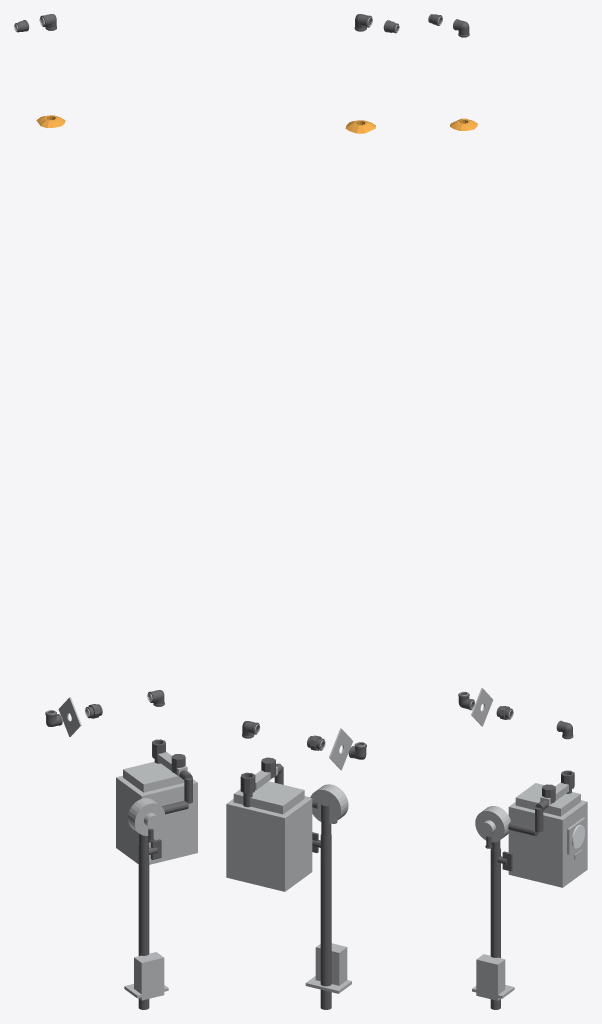
Rendered from pipes_gas__gas-natural.glb.
The picture shows the model from 3 angles, left to right: view 1: azimuth 30°, elevation 25°; view 2: azimuth 150°, elevation 25°; view 3: azimuth 330°, elevation 25°; orthographic projection. The views are drawn at different scales.
Visible parts, largest first — view 1: fix_gas_meter, fix_gas_meter_union; view 2: fix_gas_meter, fix_gas_meter_union; view 3: fix_gas_meter, fix_gas_meter_union.
Boxes of the visible parts, x1,y1,x2,y2 form: fix_gas_meter: [116, 739, 197, 1009]; fix_gas_meter_union: [58, 697, 102, 736]; fix_gas_meter: [226, 757, 351, 1009]; fix_gas_meter_union: [307, 728, 352, 770]; fix_gas_meter: [472, 770, 587, 1009]; fix_gas_meter_union: [471, 688, 513, 726].
Size of the model in its own units: 0.7304 by 4.2 by 0.3898.
